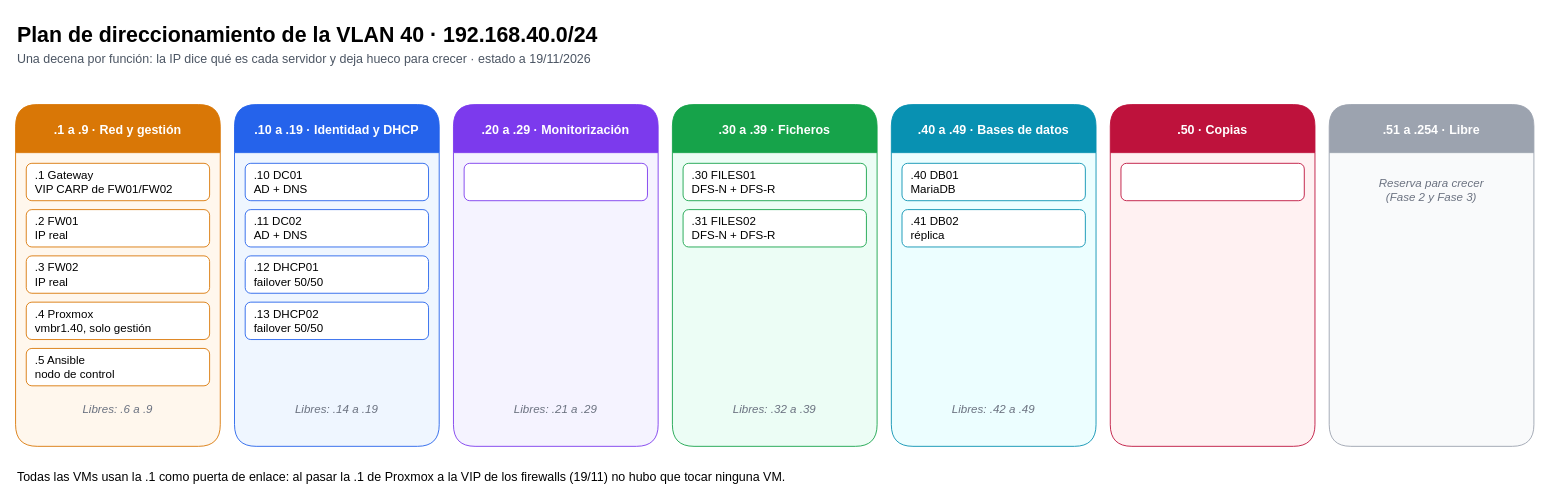
Some shapes in this 1549 by 504 pixel diagram are drawn without their labels. Here are the shapes that lost their labels. From the top down, the centre of each, then its label:
the point at 555,181: .20 CMK Checkmk 2.5
the point at 1212,181: .50 BACKUP copias de seguridad
